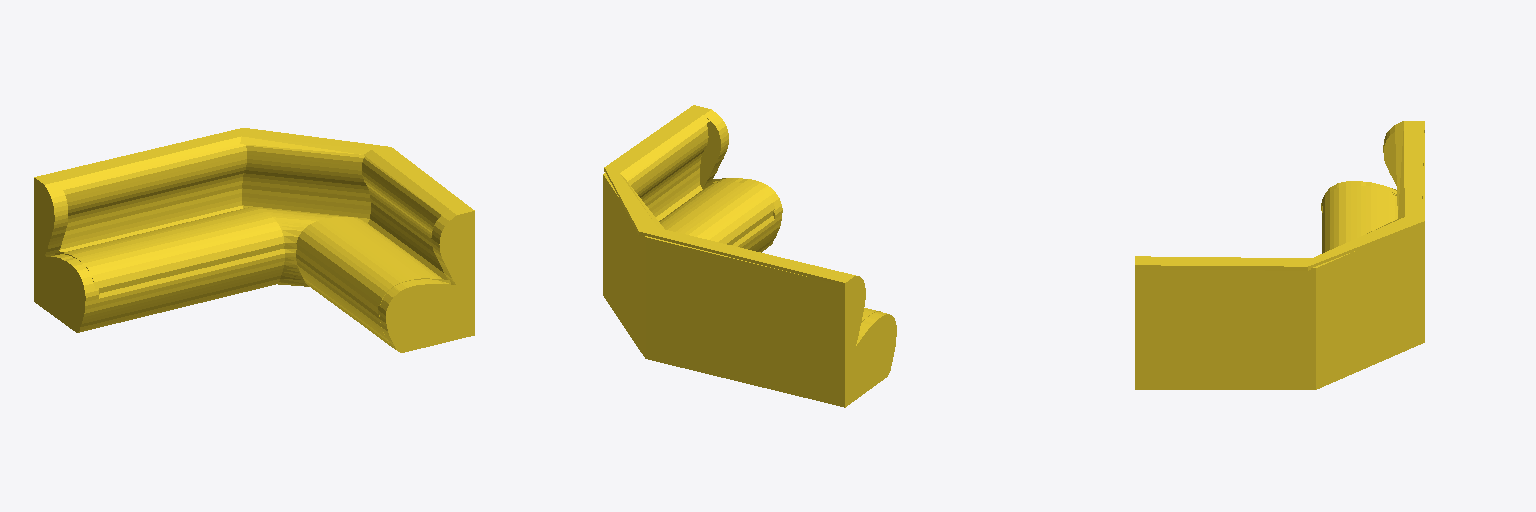
3 renders of one model, left to right at view 1: azimuth 30°, elevation 25°; view 2: azimuth 150°, elevation 25°; view 3: azimuth 270°, elevation 25°, orthographic.
Parts seen in each view (by area): view 1: sill�n pCube2, pCube1 sill�n, sill�n pCube3; view 2: sill�n pCube2, pCube1 sill�n, sill�n pCube3; view 3: sill�n pCube2, pCube1 sill�n, sill�n pCube3.
Part boxes in pixels (left/top/right/bottom): sill�n pCube2: left=55, top=144, right=450, bottom=345; pCube1 sill�n: left=34, top=128, right=470, bottom=332; sill�n pCube3: left=378, top=205, right=474, bottom=352; sill�n pCube2: left=603, top=124, right=880, bottom=404; pCube1 sill�n: left=604, top=107, right=896, bottom=407; sill�n pCube3: left=686, top=105, right=782, bottom=248; sill�n pCube2: left=1151, top=133, right=1424, bottom=389; pCube1 sill�n: left=1137, top=121, right=1424, bottom=270; sill�n pCube3: left=1135, top=256, right=1150, bottom=389.
Size of the model in its own units: 7.89 by 3.14 by 6.6.
1 materials, 1 textured.